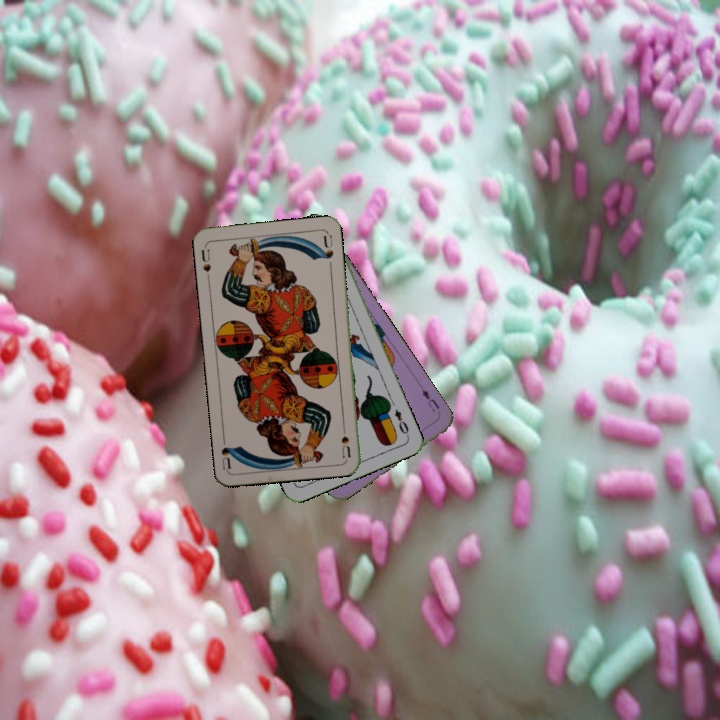EO: (390, 405, 412, 439)
EU: (418, 385, 442, 415)
SU: (338, 419, 353, 460), (197, 245, 213, 275)
